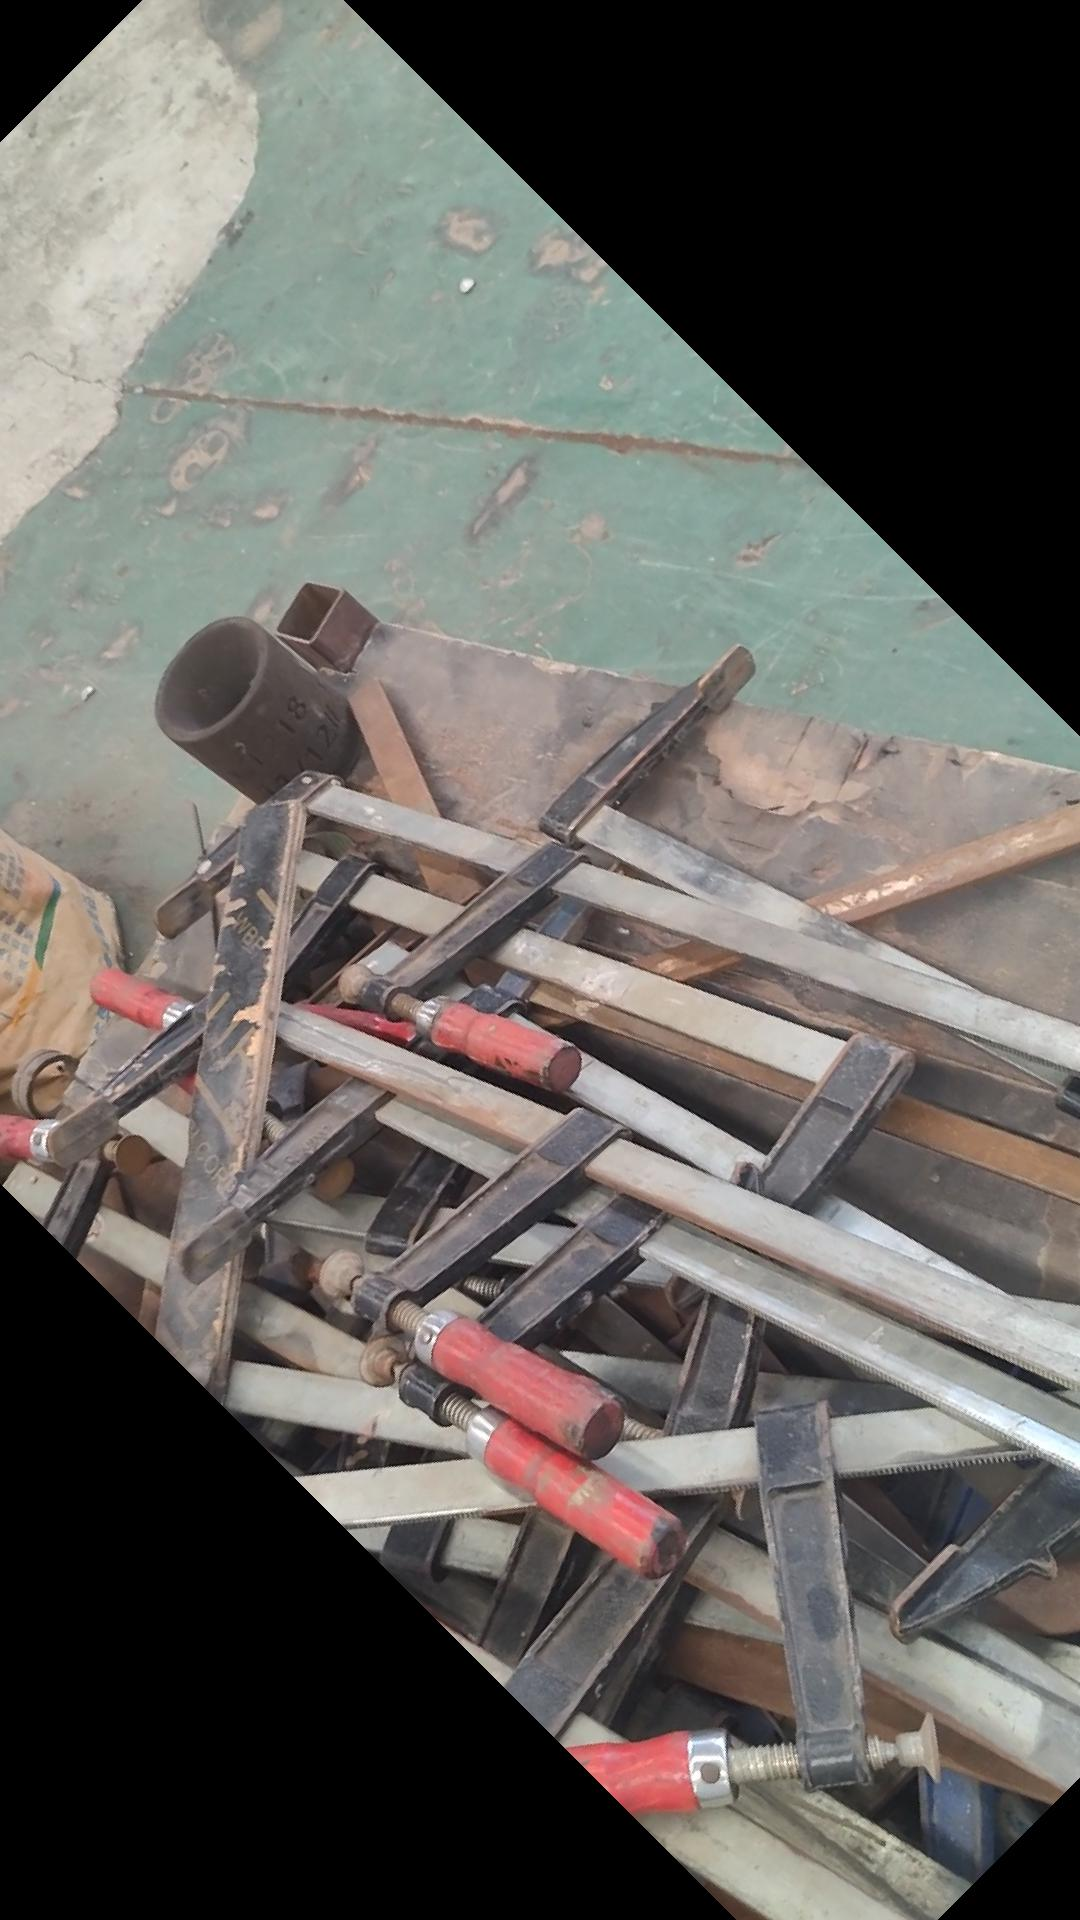pouring hole: (160, 618, 261, 731)
